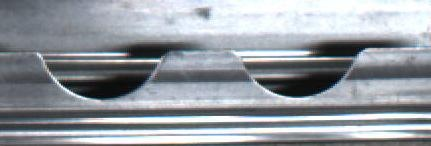twou: (37, 42, 360, 107)
